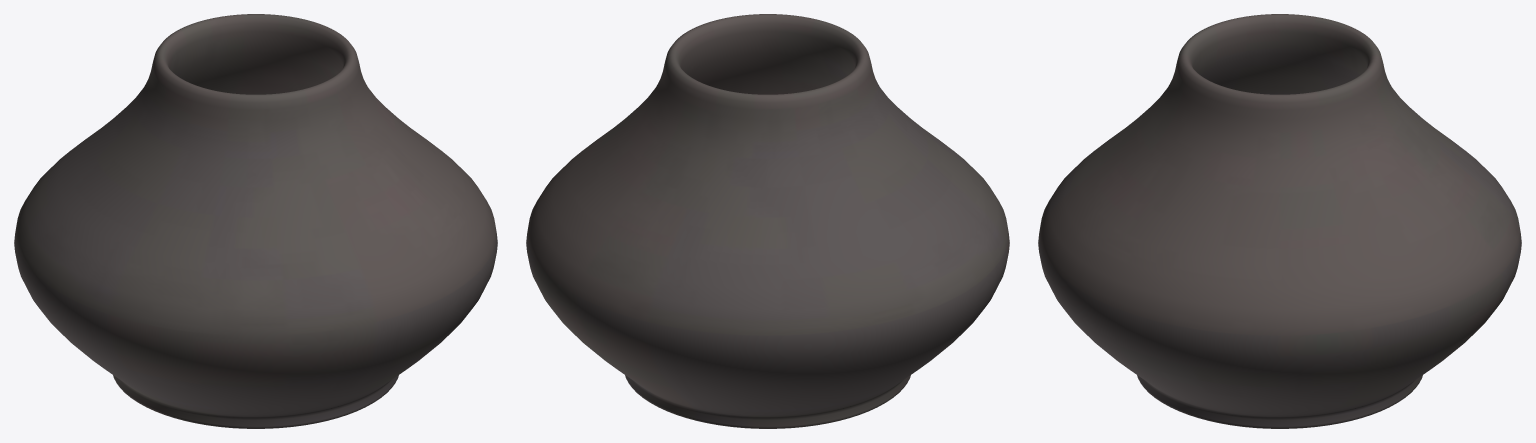
3 views of the same model, side by side, from view 1: azimuth 30°, elevation 25°; view 2: azimuth 150°, elevation 25°; view 3: azimuth 270°, elevation 25° (orthographic).
Parts seen in each view (by area): view 1: BP_소품1; view 2: BP_소품1; view 3: BP_소품1.
Boxes of the visible parts, x1=… form: BP_소품1: x1=14, y1=14, x2=497, y2=428; BP_소품1: x1=526, y1=14, x2=1009, y2=428; BP_소품1: x1=1038, y1=14, x2=1521, y2=428.
Size of the model in its own units: 0.1434 by 0.1029 by 0.1434.
1 material, 1 textured.
